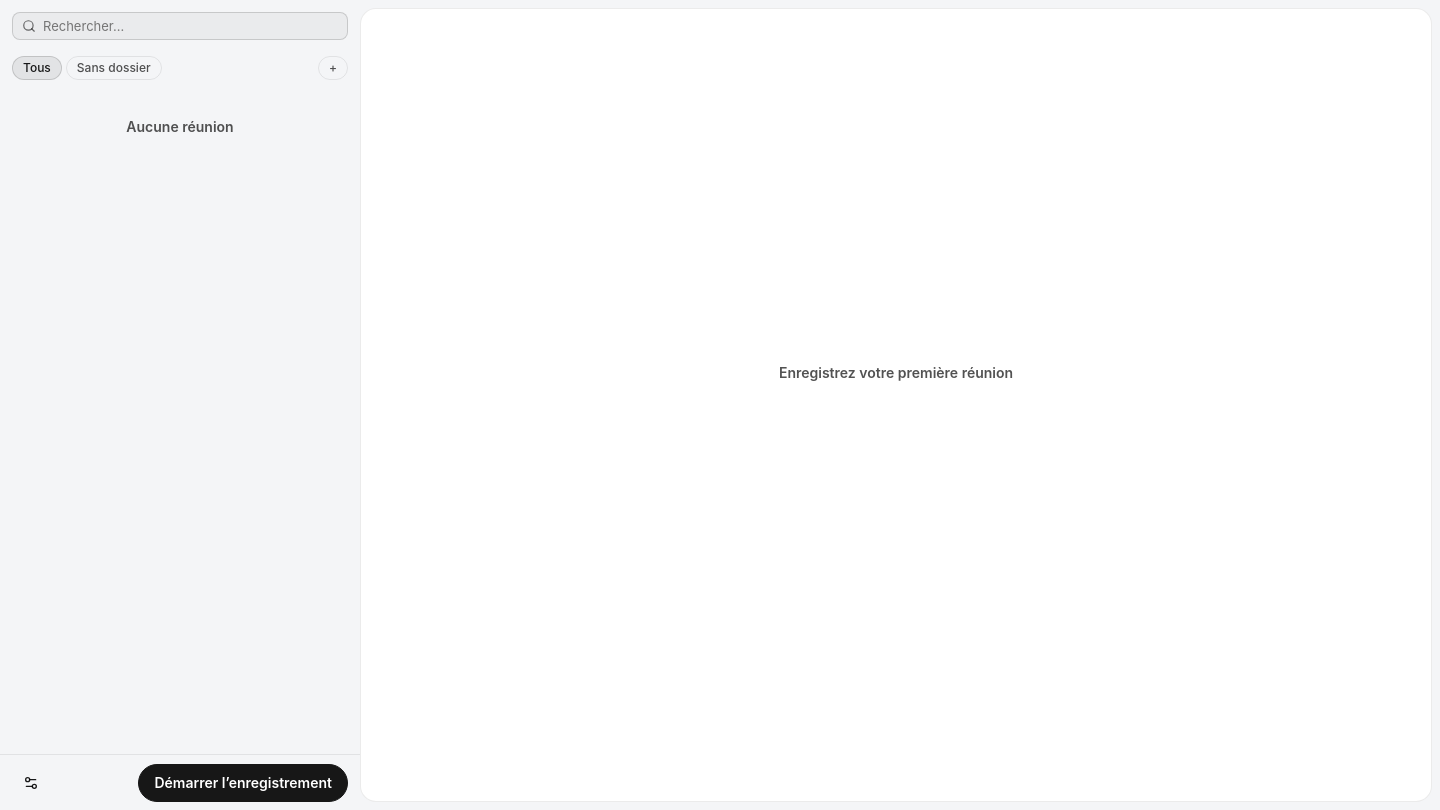
shows the stored choice in the general group, after the appearance
Click the button named "Paramètres".
click(31, 782)  # box [12,764,50,802]
(page scrolled)
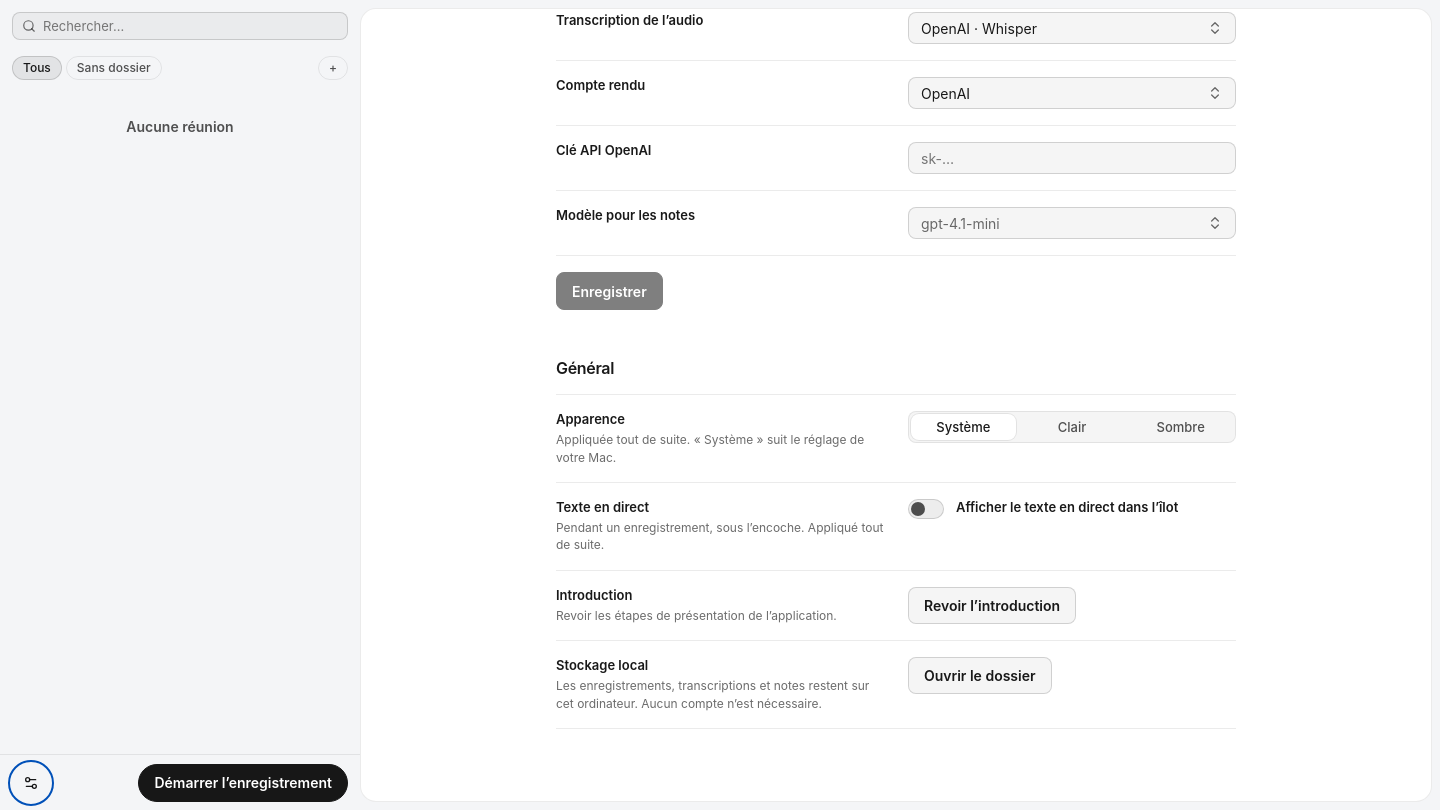
Check: the switch labelled "Afficher le texte en direct dans l’îlot" is not checked, box [908,499,1178,519]
